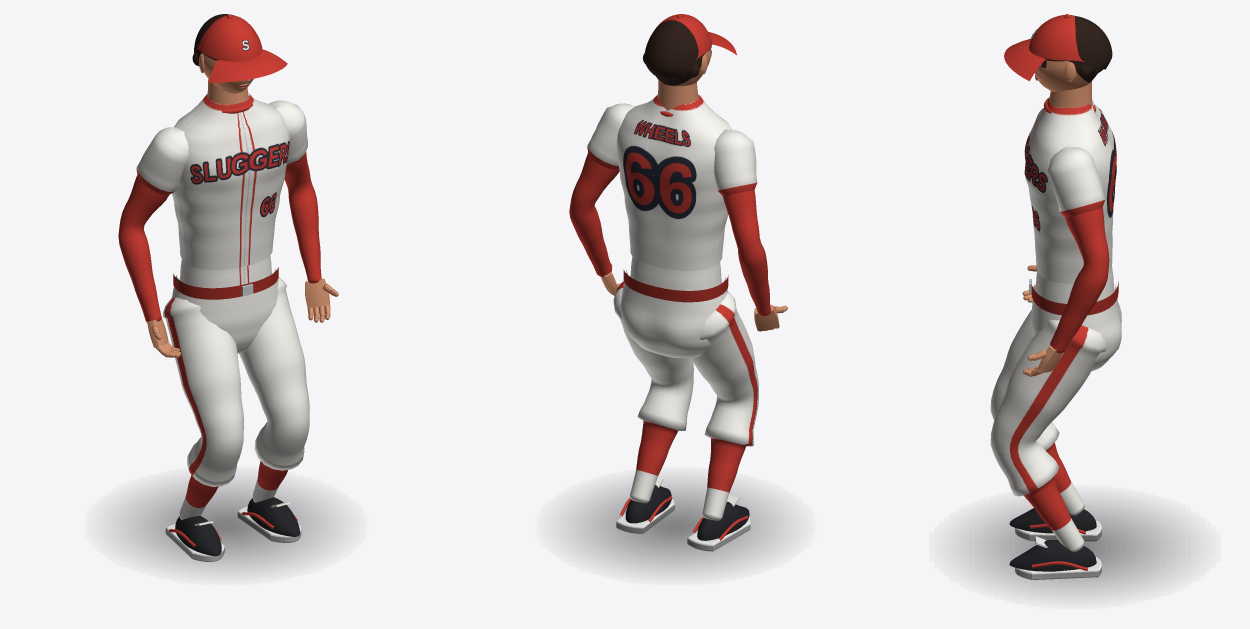
Rendered from player_15_home.glb.
3 renders of one model, left to right at view 1: azimuth 30°, elevation 25°; view 2: azimuth 150°, elevation 25°; view 3: azimuth 270°, elevation 25°, orthographic. The views are drawn at different scales.
Visible parts, largest first — view 1: player_15_home, object 41, object 43, object 2; view 2: player_15_home, object 29, object 2, object 41; view 3: player_15_home, object 41, object 29, object 45, object 43, object 2.
Boxes of the visible parts, left/top/right/bottom form: player_15_home: left=117, top=93, right=334, bottom=571; object 41: left=196, top=15, right=262, bottom=61; object 43: left=208, top=49, right=287, bottom=82; object 2: left=207, top=79, right=248, bottom=104; player_15_home: left=568, top=94, right=783, bottom=571; object 29: left=644, top=20, right=711, bottom=78; object 2: left=657, top=80, right=698, bottom=110; object 41: left=655, top=14, right=711, bottom=59; player_15_home: left=964, top=98, right=1185, bottom=593; object 41: left=1028, top=15, right=1084, bottom=61; object 29: left=1044, top=16, right=1112, bottom=69; object 45: left=1035, top=60, right=1102, bottom=91; object 43: left=1004, top=38, right=1045, bottom=81; object 2: left=1049, top=81, right=1092, bottom=107.
Bounding box in the file's own units: 3.1 × 5.76 × 3.1.
Materials: 27 (5 with a texture image).
